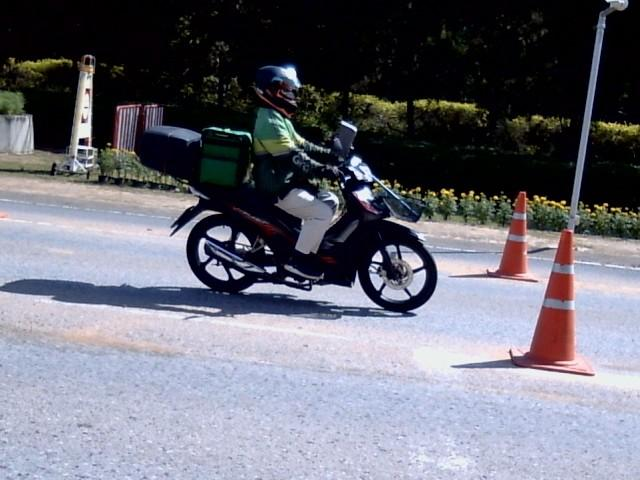helmet: (249, 63, 302, 117)
motor: (171, 121, 436, 311)
person: (252, 67, 338, 277)
